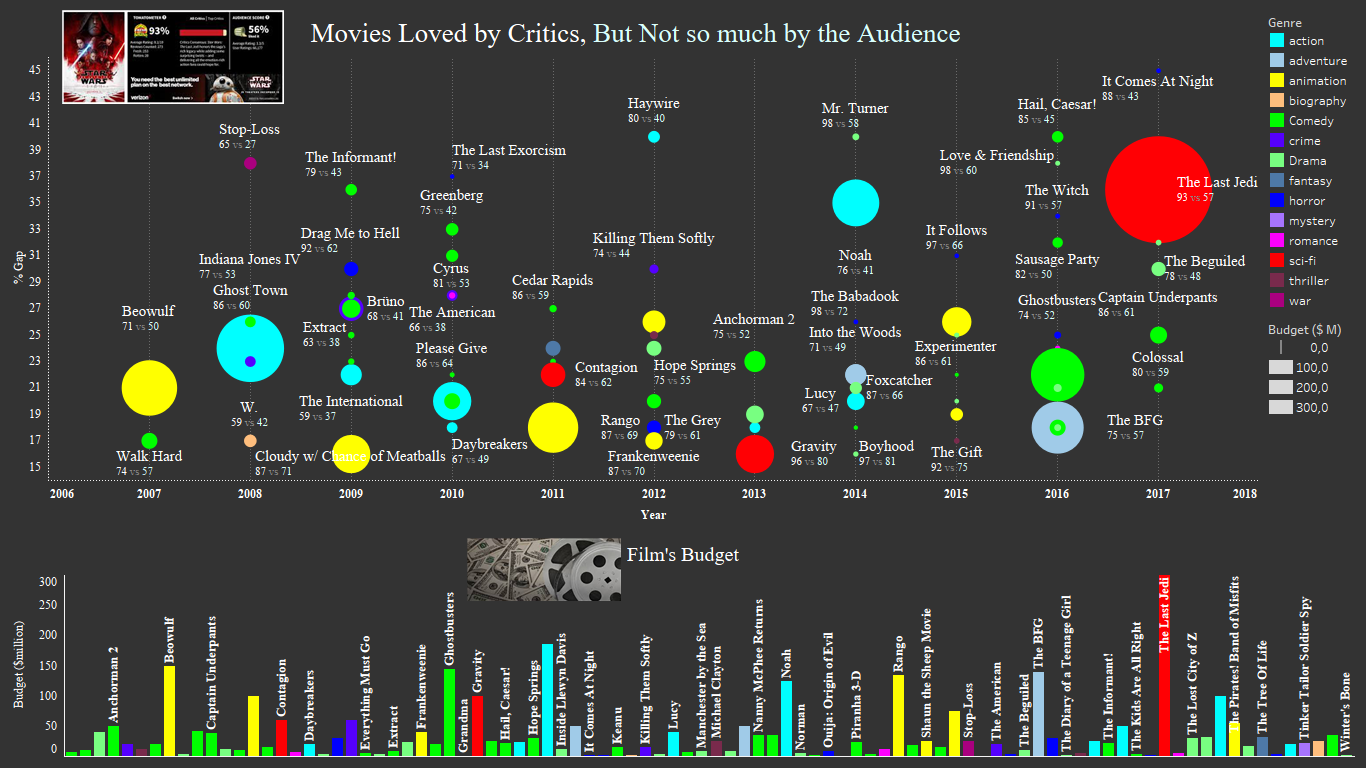

The dashboard page shown, as its layout file describes it:
{"tool":"tableau","page":{"name":"Movie Review Gap","canvas":[1366,768],"ordinal":0},"visuals":[{"type":"worksheet","title":"Gap","mark":"Automatic","rows":["% gap"],"cols":["Year"],"box":[8,8,1255,525]},{"type":"legend","title":"Gap","param":"[federated.0aa7hep1612g3310cxvt111t5rxd].[none:Genre - Split 1:nk]","box":[1263,8,95,307]},{"type":"legend","title":"Gap","param":"[federated.0aa7hep1612g3310cxvt111t5rxd].[sum:Budget ($million):qk]","box":[1263,315,95,145]},{"type":"worksheet","title":"Budget","mark":"Automatic","rows":["Budget ($million)"],"cols":["Film"],"box":[8,533,1350,227]}]}

Visuals, with their boxes in screenshot pixels (x1, y1, x2, y2), scaled from the page's 1366x768 canvas onto the 1366x768 screenshot:
"Gap" worksheet: 8:8:1263:533
"Gap" legend: 1263:8:1358:315
"Gap" legend: 1263:315:1358:460
"Budget" worksheet: 8:533:1358:760
